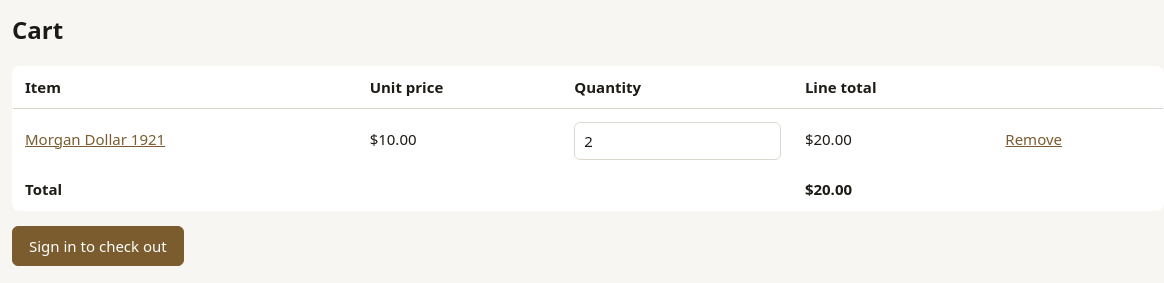
Test: Cart quantity › shows the quantity in the cart again when the box is left empty
The image size is (1164, 283).
Clear the number field. click: (678, 141)
box: [574,122,781,160]
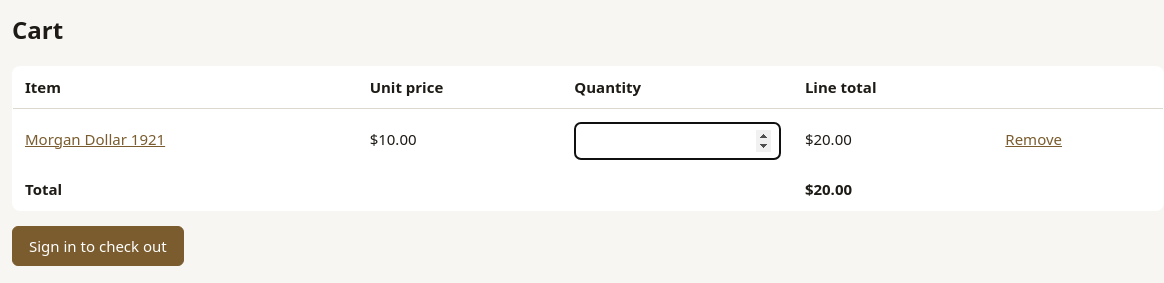
Press Tab
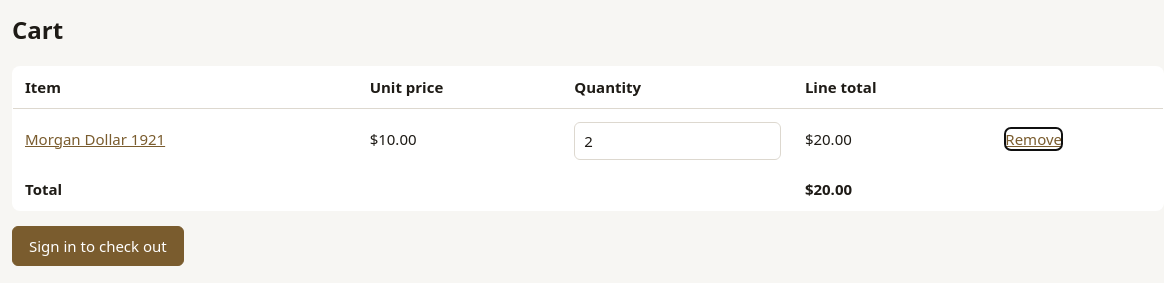
Check: the number field holds "2", box [574,122,781,160]
